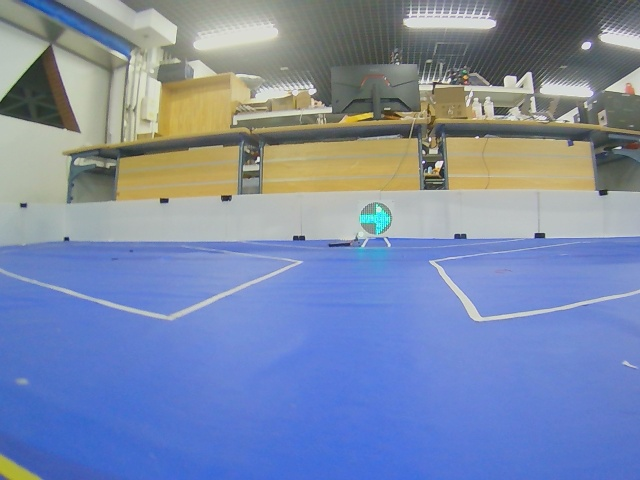right_green: (360, 202, 392, 235)
